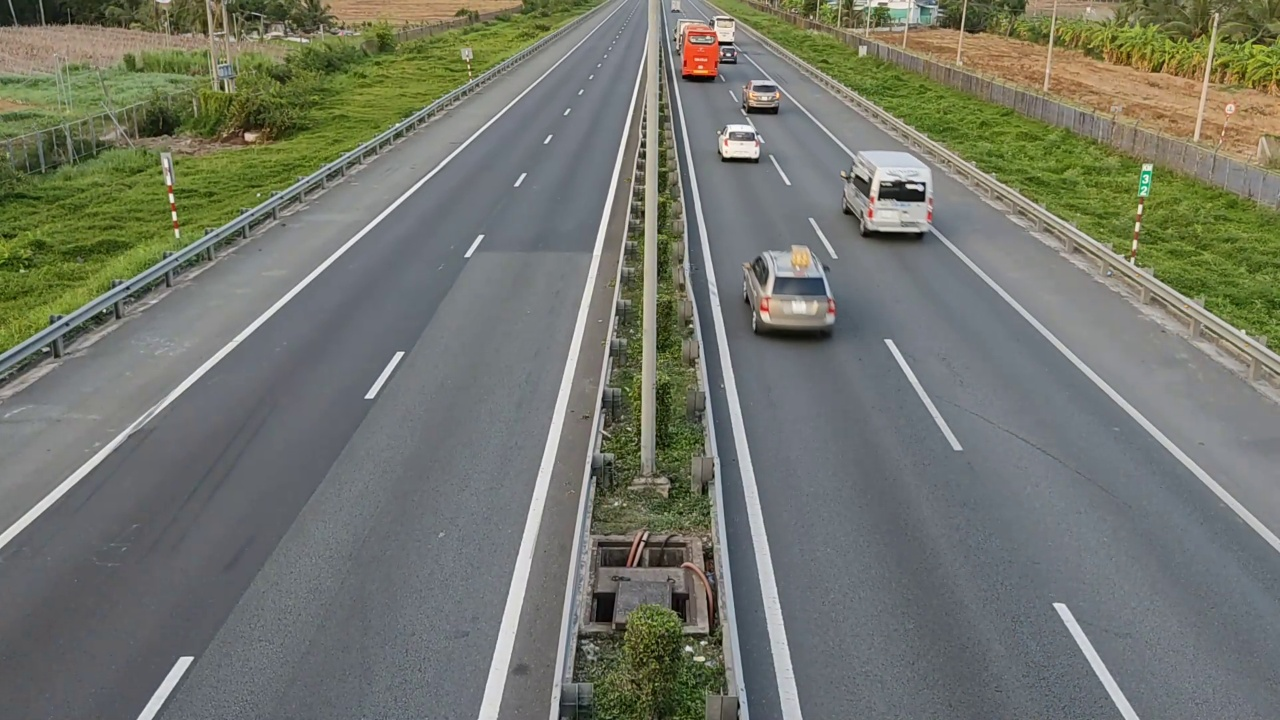car: (741, 245, 837, 337), (839, 148, 935, 237), (717, 121, 764, 162), (741, 80, 781, 114)
